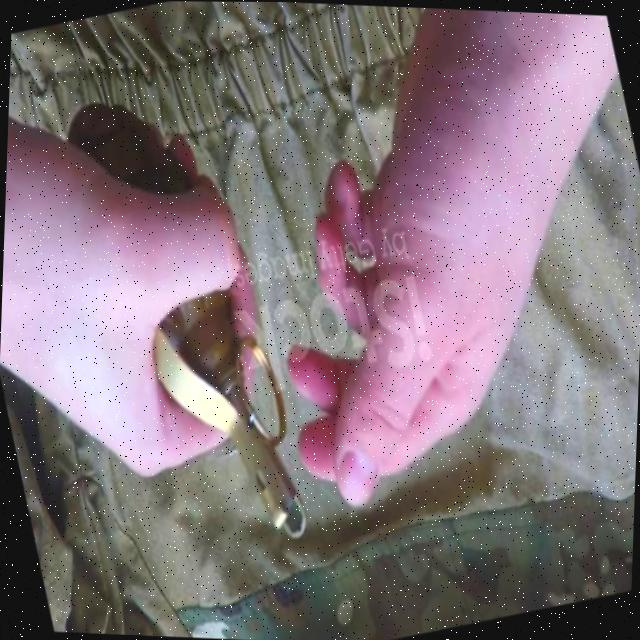grenade: (40, 70, 322, 570)
